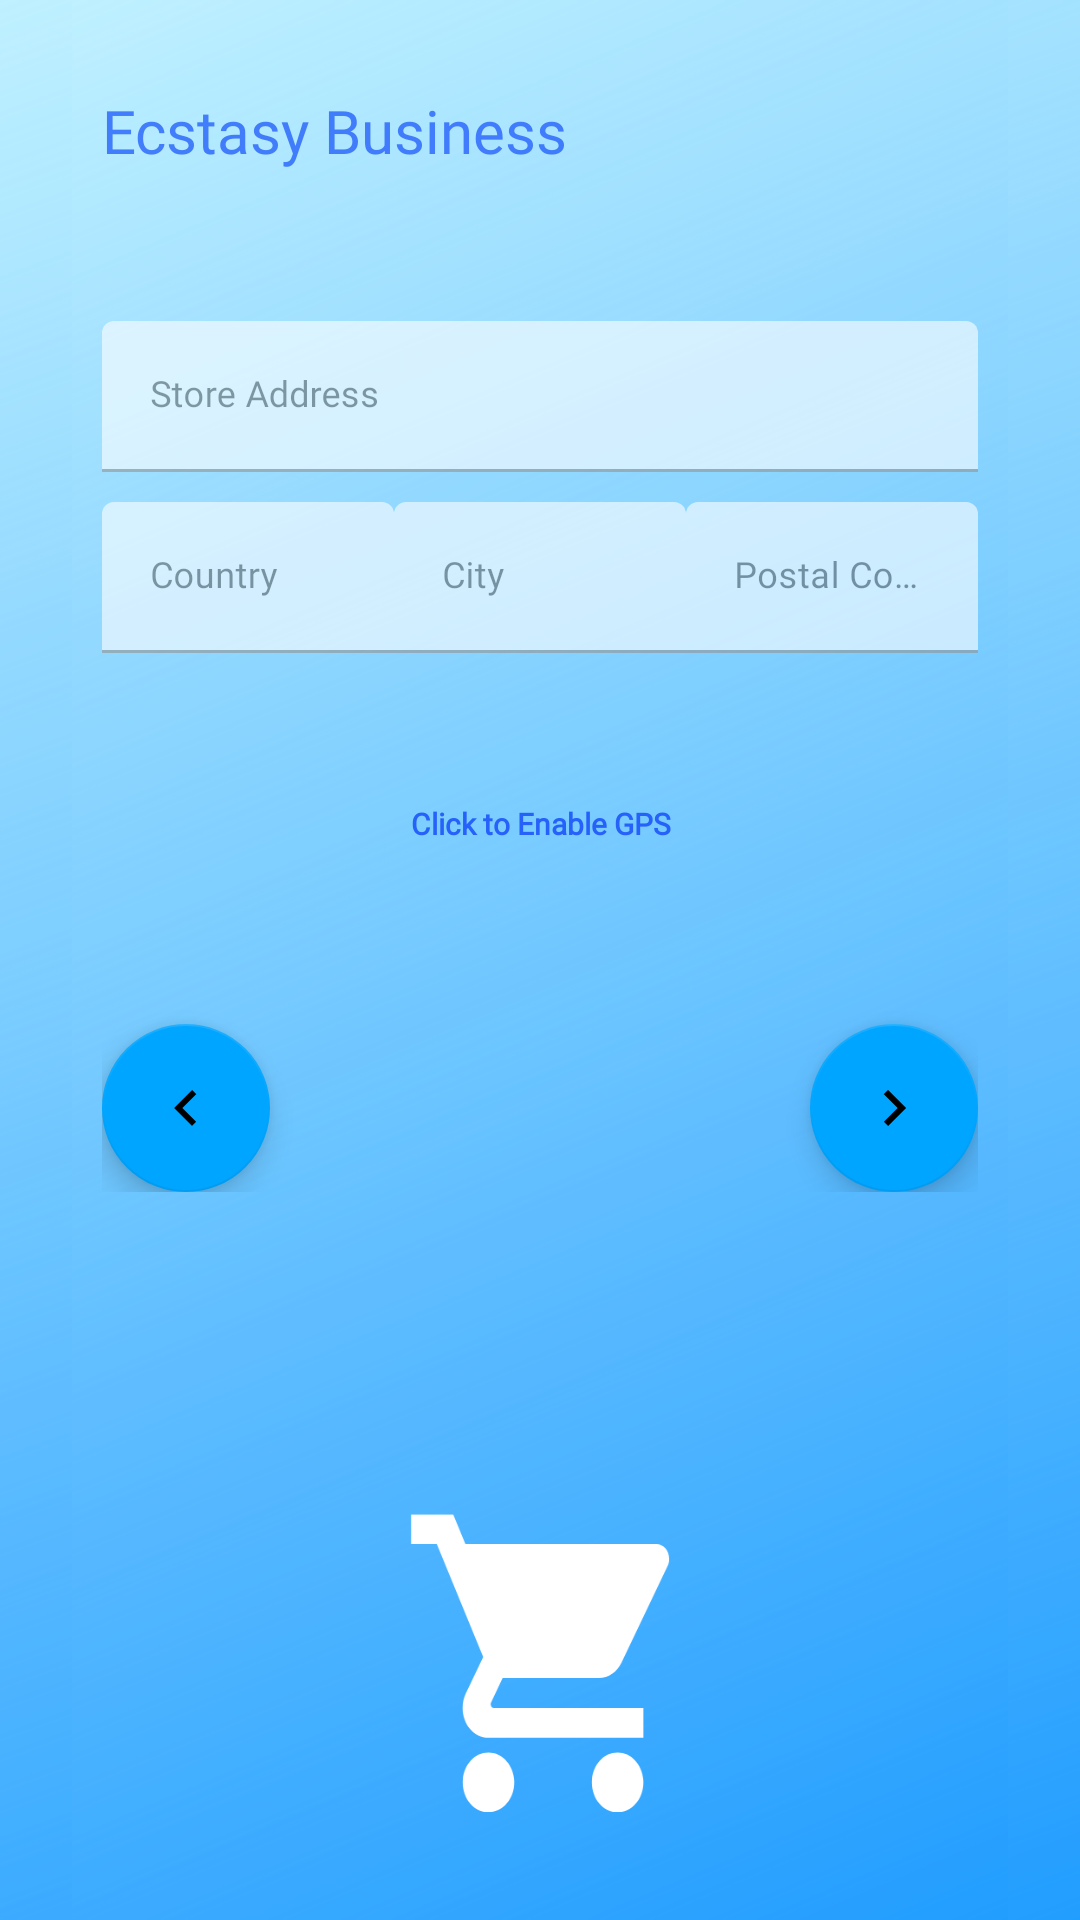

Where to tap for icons on this 1080 × 1920 app screen, as (x,y):
next: (894,1108)
previous: (186,1108)
